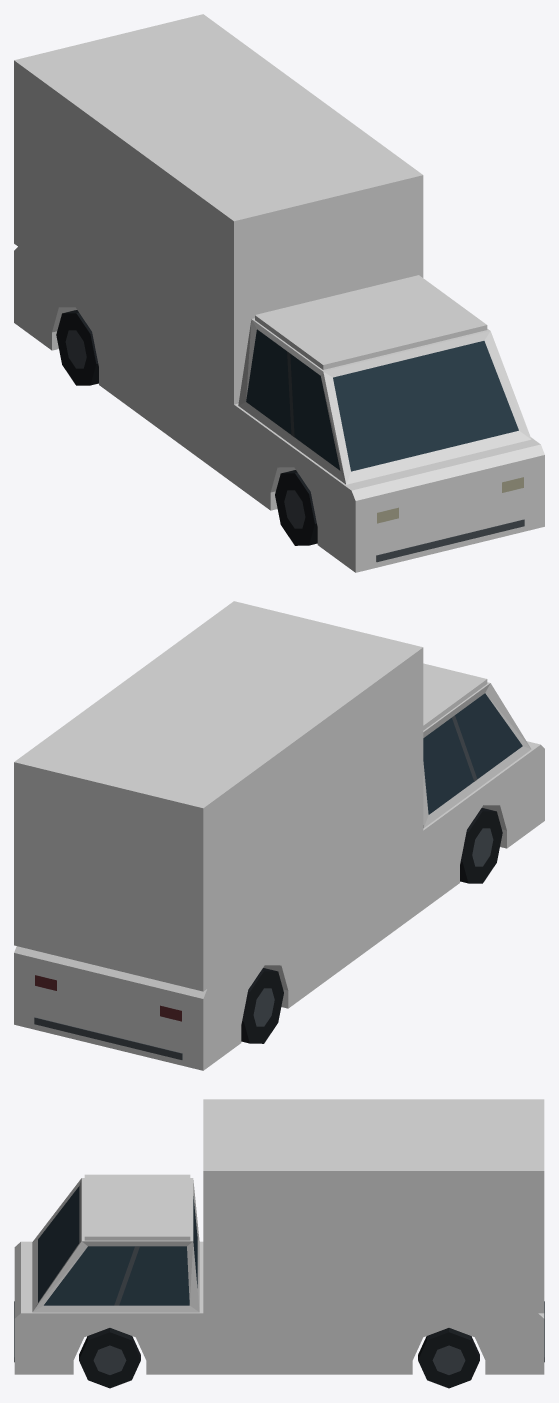
The model's file is box-truck.glb.
3 renders of one model, top to bottom at view 1: azimuth 30°, elevation 25°; view 2: azimuth 150°, elevation 25°; view 3: azimuth 270°, elevation 25°, orthographic. The views are drawn at different scales.
Visible parts, largest first — view 1: vehicle_body; view 2: vehicle_body; view 3: vehicle_body, side_panel.
Part boxes in pixels (x1,y1,x2,y2): vehicle_body: (14, 14, 544, 572); vehicle_body: (14, 601, 544, 1070); vehicle_body: (14, 1099, 544, 1388); side_panel: (233, 1200, 508, 1289).
Bounding box in the file's own units: 2.4 × 3.4 × 7.52.
